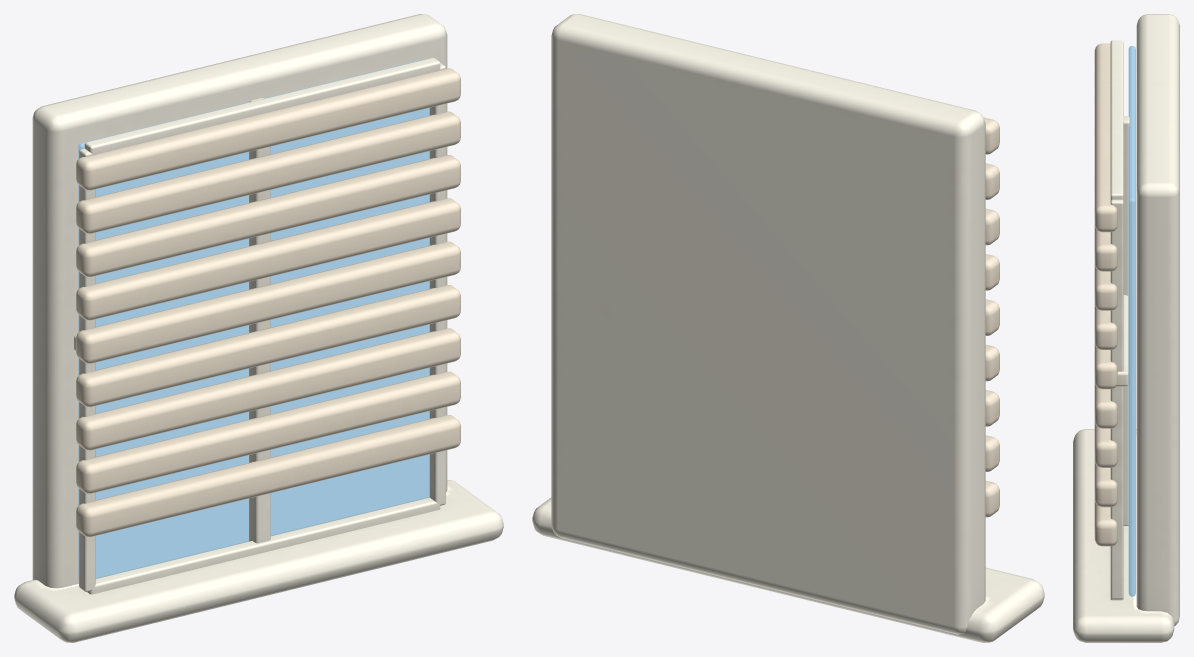
The model's file is windowBlinds.glb.
The picture shows the model from 3 angles, left to right: view 1: azimuth 30°, elevation 25°; view 2: azimuth 150°, elevation 25°; view 3: azimuth 270°, elevation 25°; orthographic projection. The views are drawn at different scales.
Visible parts, largest first — view 1: Window frame, Window glass, Sill, Blind slat.007, Blind slat.001, Blind slat.002, Blind slat.005, Blind slat.004, Blind slat.006, Blind slat, Blind slat.003, Blind slat.008 (+5 smaller); view 2: Window frame, Sill; view 3: Window frame, Sill, Window glass, Opening sash upright.001, Blind slat.008, Opening sash rail.001, Window muntin, Blind slat, Blind slat.007, Blind slat.005, Blind slat.006, Blind slat.001 (+4 smaller).
Boxes of the visible parts, x1,y1,x2,y2 form: Window frame: [32, 14, 447, 588]; Window glass: [78, 59, 429, 580]; Sill: [14, 480, 503, 642]; Blind slat.007: [76, 111, 460, 233]; Blind slat.001: [76, 371, 460, 493]; Blind slat.002: [76, 328, 460, 450]; Blind slat.005: [76, 198, 460, 320]; Blind slat.004: [76, 241, 460, 363]; Blind slat.006: [76, 155, 460, 276]; Blind slat: [76, 414, 460, 536]; Blind slat.003: [76, 285, 460, 406]; Blind slat.008: [76, 68, 460, 190]; Window frame: [551, 14, 985, 634]; Sill: [532, 497, 1044, 642]; Window frame: [1136, 14, 1179, 626]; Sill: [1073, 429, 1174, 642]; Window glass: [1128, 45, 1135, 596]; Opening sash upright.001: [1110, 199, 1123, 599]; Blind slat.008: [1094, 43, 1117, 232]; Opening sash rail.001: [1110, 40, 1123, 200]; Window muntin: [1123, 116, 1129, 525]; Blind slat: [1094, 500, 1117, 546]; Blind slat.007: [1094, 225, 1117, 271]; Blind slat.005: [1094, 304, 1117, 349]; Blind slat.006: [1094, 265, 1117, 310]; Blind slat.001: [1094, 461, 1117, 507].
Bounding box in the file's own units: 1.61 × 1.72 × 0.37.
